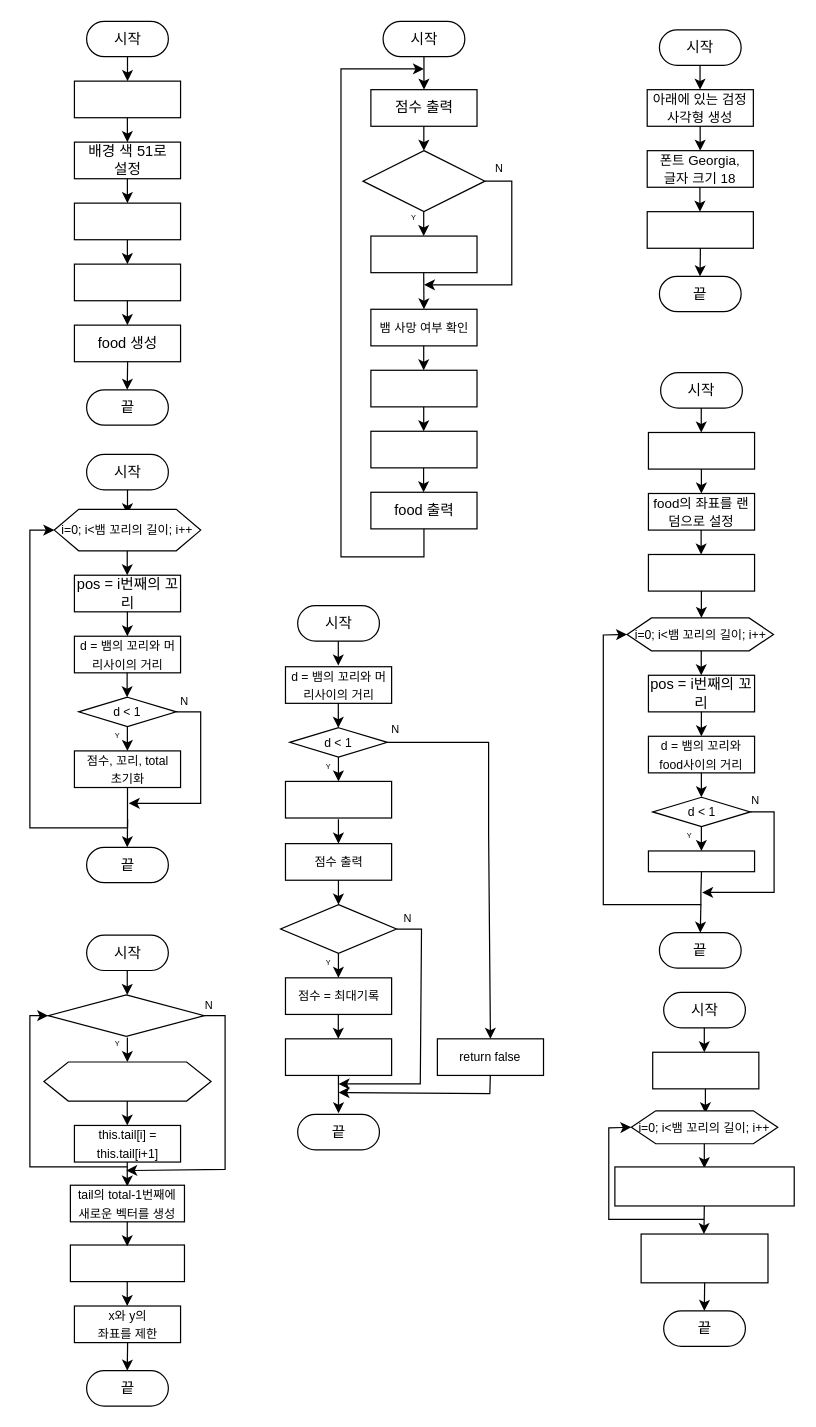
The diagram is 816 pixels wide and 1427 high, and some of its shapes have lost their labels. Each missing label, with the centre of its shape:
"food 재생성" goes at (x=423, y=254).
"food를 먹었는가?" goes at (x=423, y=180).
"food의 좌표를 scl만큼 곱하기" goes at (x=701, y=572).
"i=0; i<뱀 꼬리의 길이-1; i++" goes at (x=127, y=1081).
"pickLocation()" goes at (x=701, y=861).
"return true" goes at (x=338, y=1056).
"scl크기의 직사각형을 tail 배열의 i번째 x와 i번째 y의 좌표에 출력" goes at (x=704, y=1186).
"scl크기의 직사각형을 x와 y 좌표에 출력" goes at (x=704, y=1258).
"snake객체 생성" goes at (x=127, y=221).
"total === 꼬리의 길이" goes at (x=125, y=1015).
"total과 score를 1씩 증가" goes at (x=338, y=799).
"x와 y 좌표를 각각의 속도에따라 변경" goes at (x=126, y=1263).
"뱀 상태 업데이트" goes at (x=423, y=388).
"뱀 출력" goes at (x=423, y=449).
"점수 > 최대기록?" goes at (x=337, y=928).
"캔버스 생성" goes at (x=127, y=99).
"텍스트, 점수, 최대기록 출력" goes at (x=699, y=229).
"프레임레이트 10으로 설정" goes at (x=127, y=282).
"행, 열의 갯수 설정" goes at (x=701, y=450).
"흰색으로 설정" goes at (x=705, y=1070).
